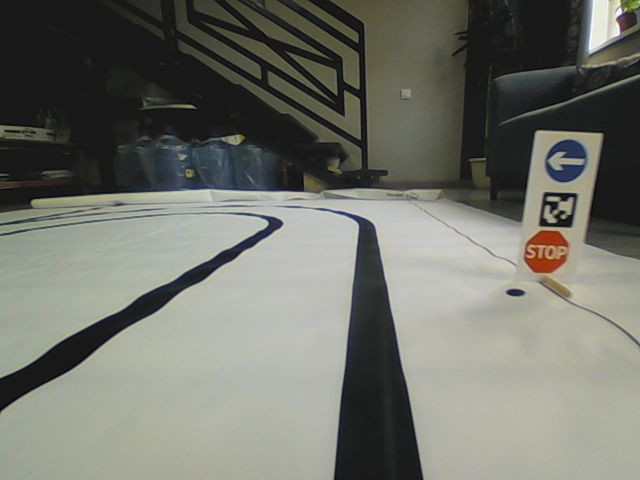Stop: (522, 227, 570, 275)
